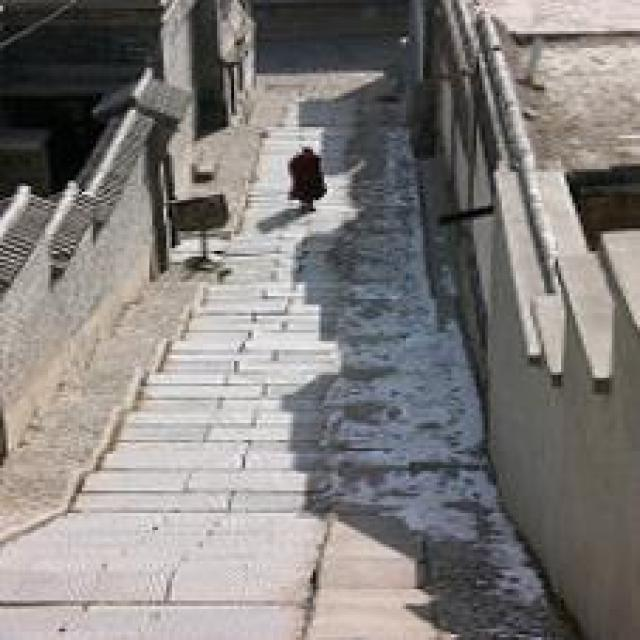downstair: (80, 309, 489, 557)
